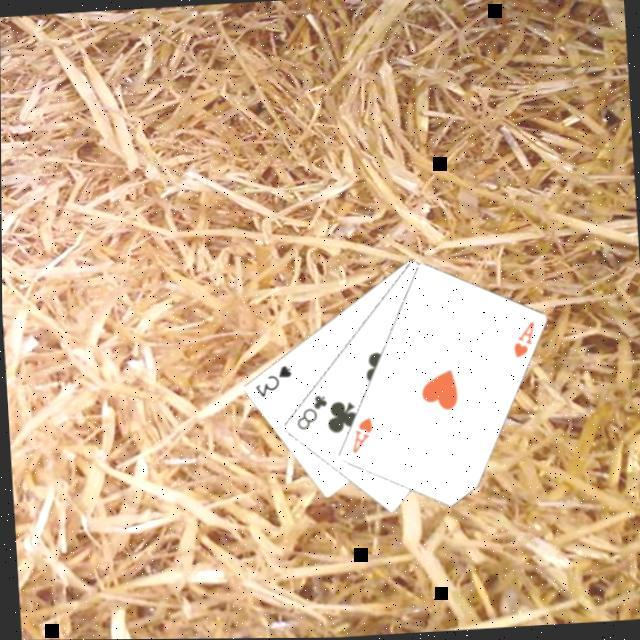3S: (250, 359, 296, 398)
8C: (292, 389, 332, 432)
AH: (508, 316, 540, 361), (346, 412, 376, 456)
